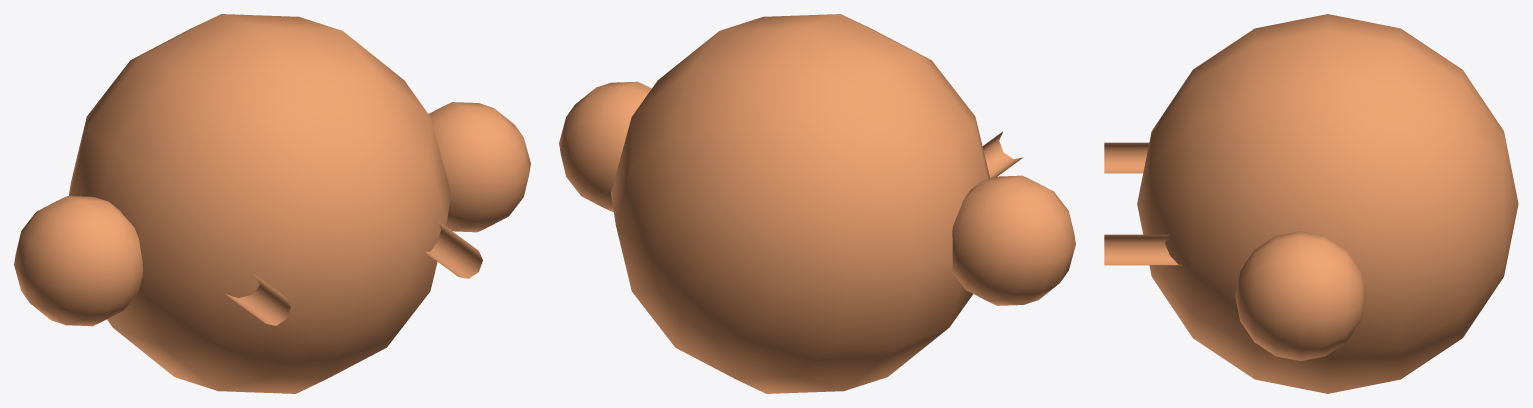
3 views of the same model, side by side, from view 1: azimuth 30°, elevation 25°; view 2: azimuth 150°, elevation 25°; view 3: azimuth 270°, elevation 25° (orthographic).
Visible parts, largest first — view 1: Mud Crab; view 2: Mud Crab; view 3: Mud Crab.
Part boxes in pixels (box(x1,y1,x2,y2)): Mud Crab: box(14, 14, 530, 393); Mud Crab: box(559, 14, 1075, 393); Mud Crab: box(1104, 14, 1518, 393).
Bounding box in the file's own units: 1.04 × 0.7 × 0.76.
